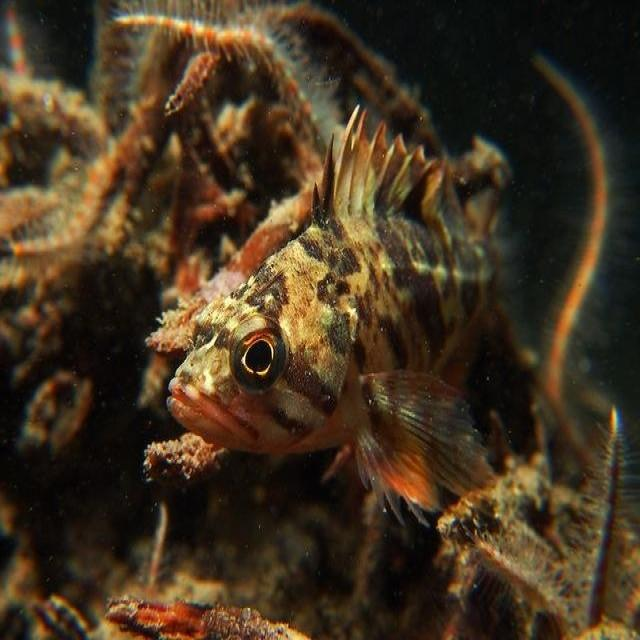fish: (167, 104, 498, 528)
